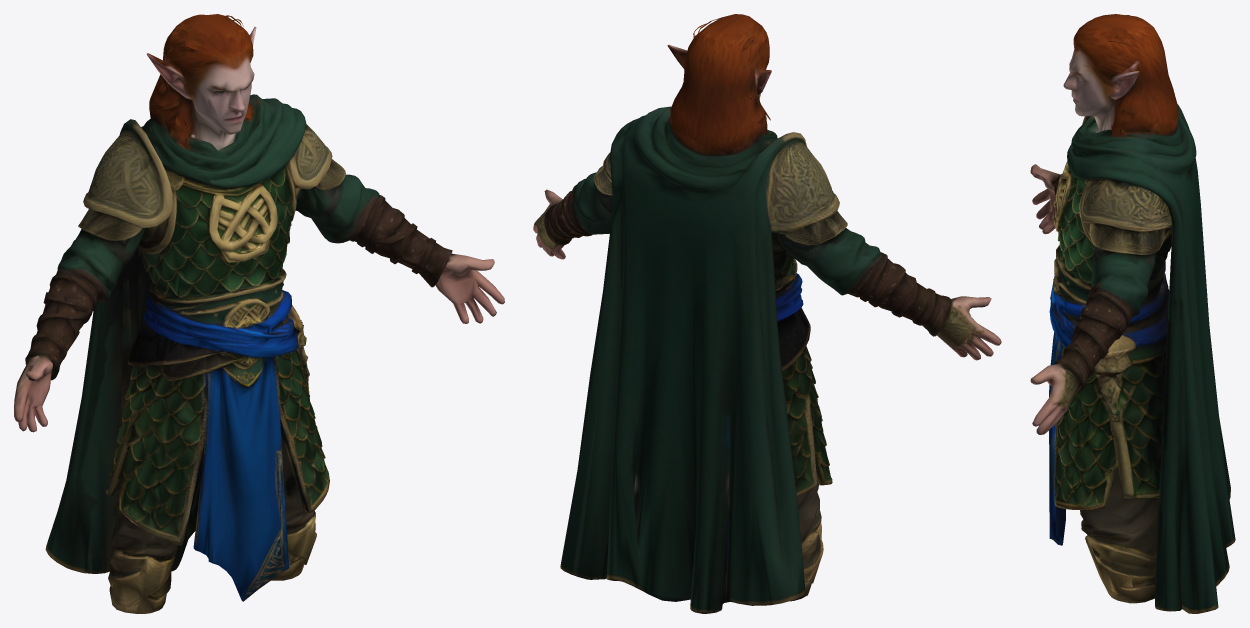
The model's file is elf_h1.glb.
3 views of the same model, side by side, from view 1: azimuth 30°, elevation 25°; view 2: azimuth 150°, elevation 25°; view 3: azimuth 270°, elevation 25° (orthographic). The views are drawn at different scales.
Parts seen in each view (by area): view 1: node_0; view 2: node_0; view 3: node_0.
Part boxes in pixels (x1,y1,x2,y2): node_0: (14,14,504,613); node_0: (533,14,1001,613); node_0: (1030,14,1235,613).
Bounding box in the file's own units: 0.9728 × 1.1 × 0.3755.
1 material, 1 textured.
